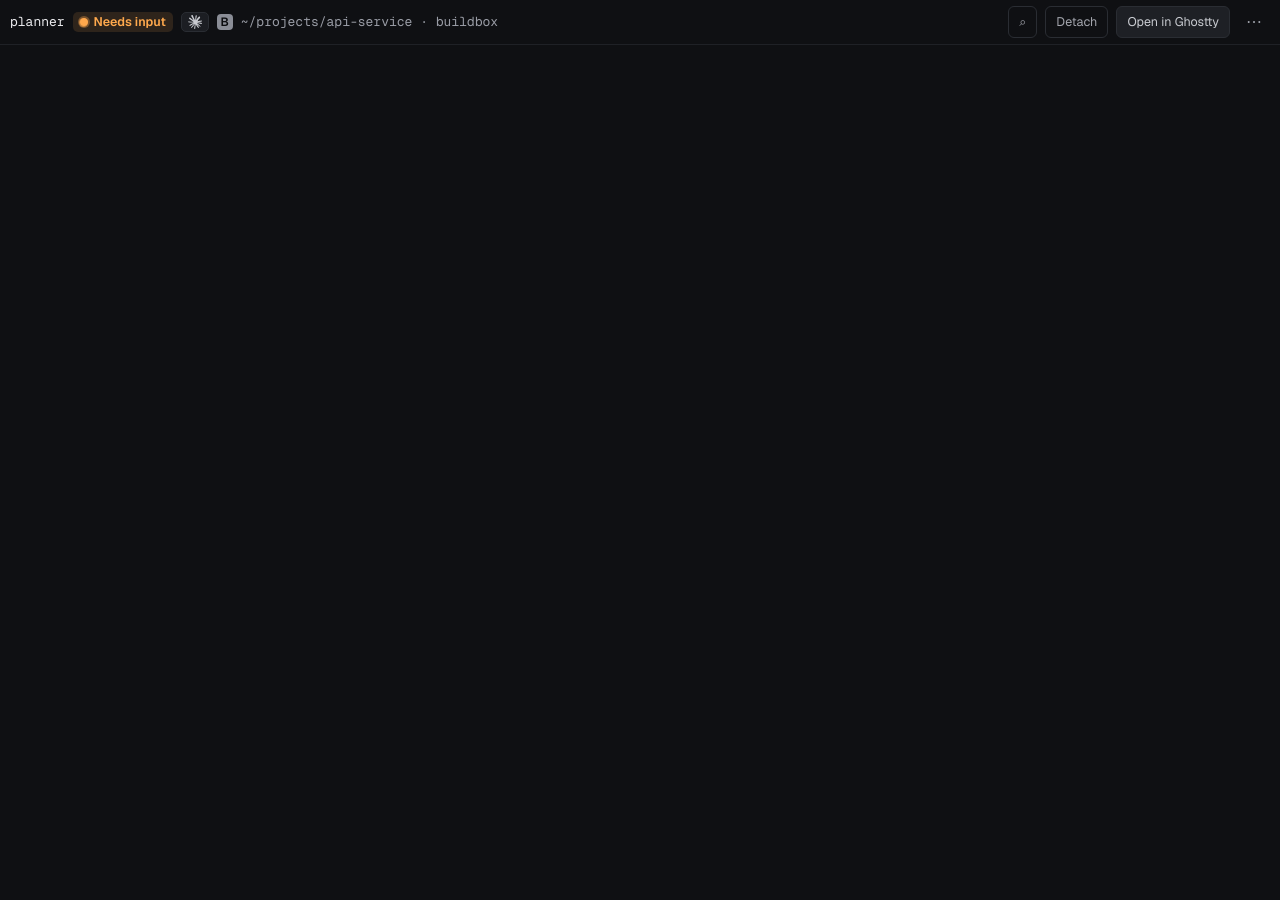
Scenario: ContextBar › the_close_pane_dialog_is_outside_the_terminal_panel
The image size is (1280, 900).
Click the button named "More actions" at (1254, 22), box [1238, 6, 1270, 38]
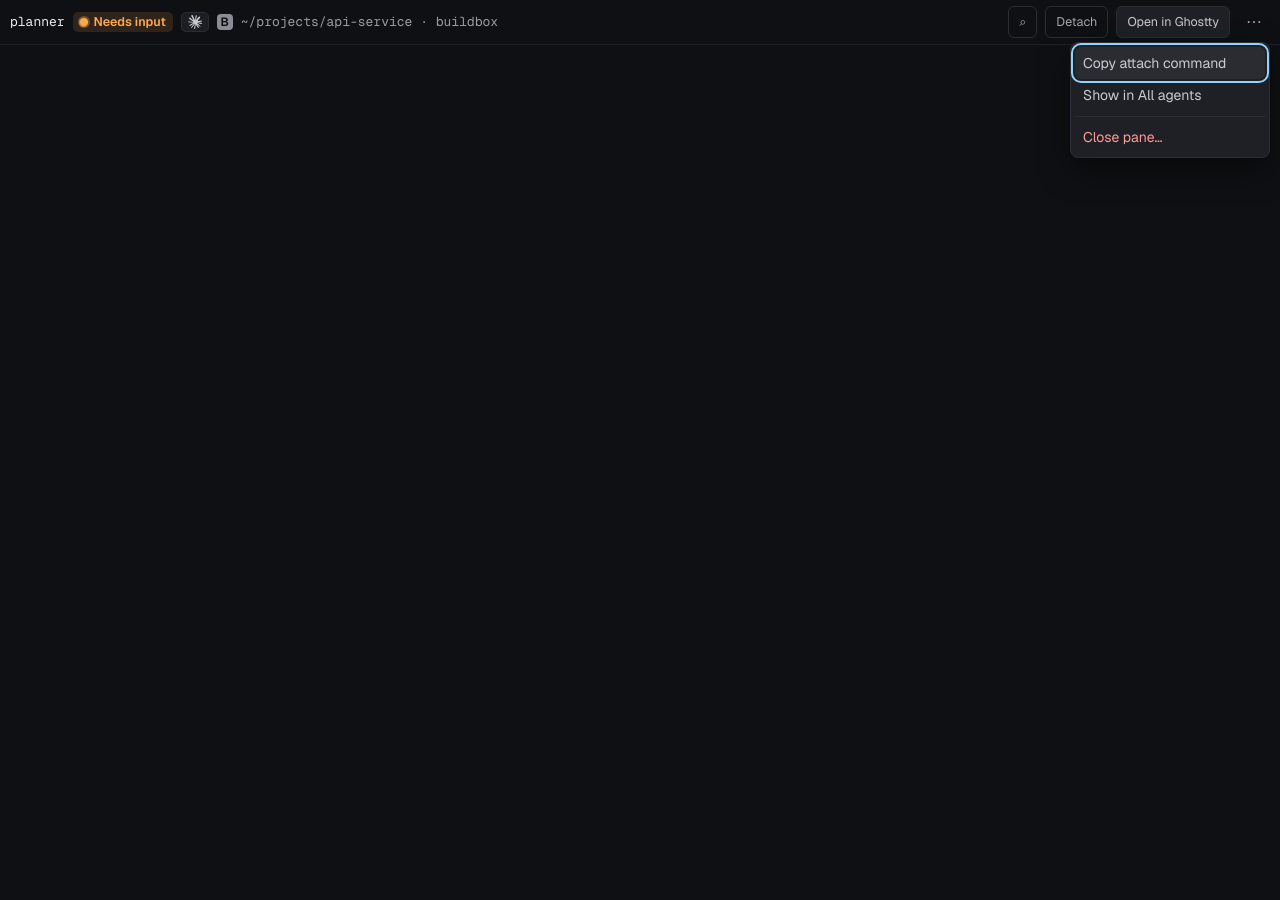
Click the menu item "Close pane…" at (1170, 137), box [1075, 121, 1265, 153]
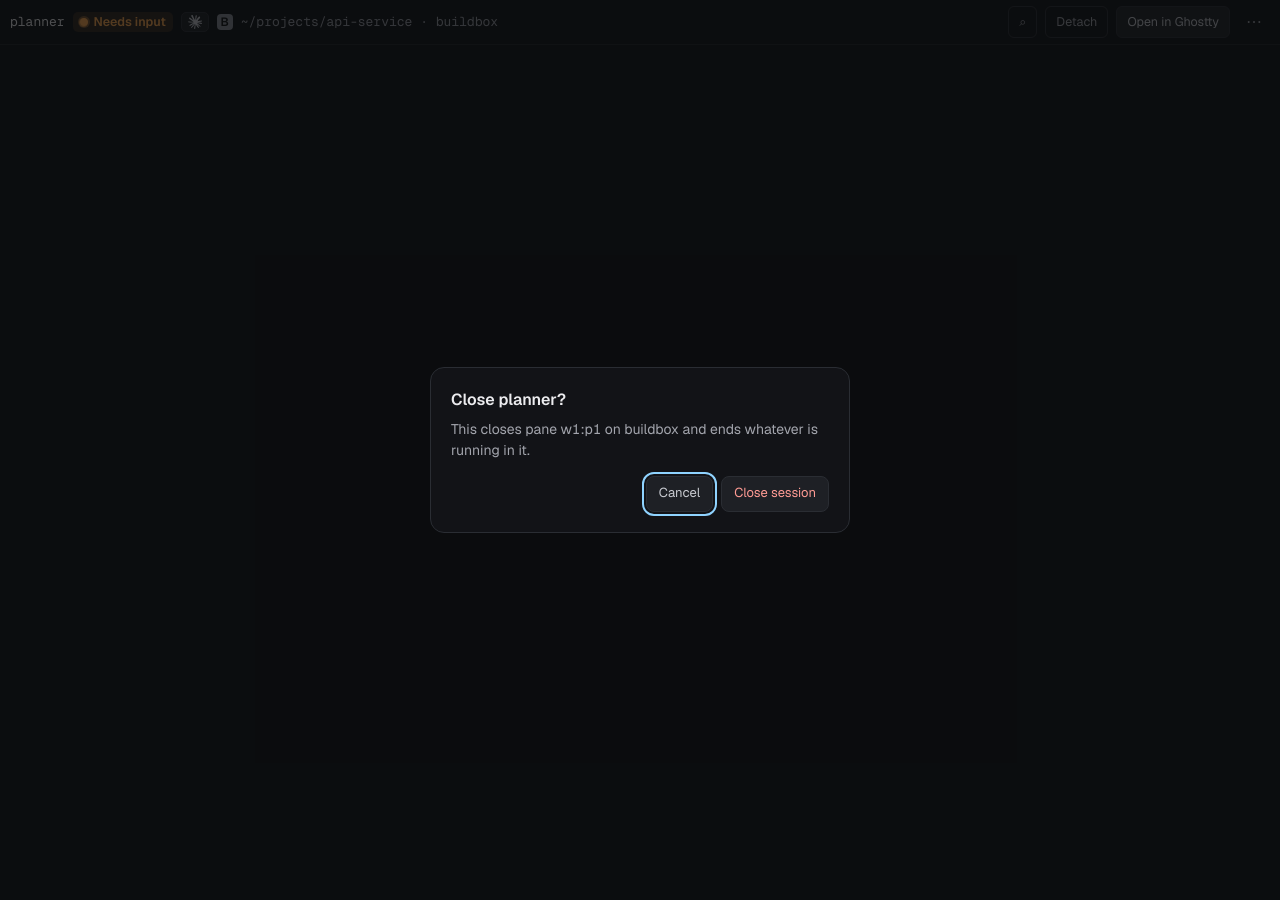
Click the button "Cancel" at (680, 494), box [646, 476, 713, 512]
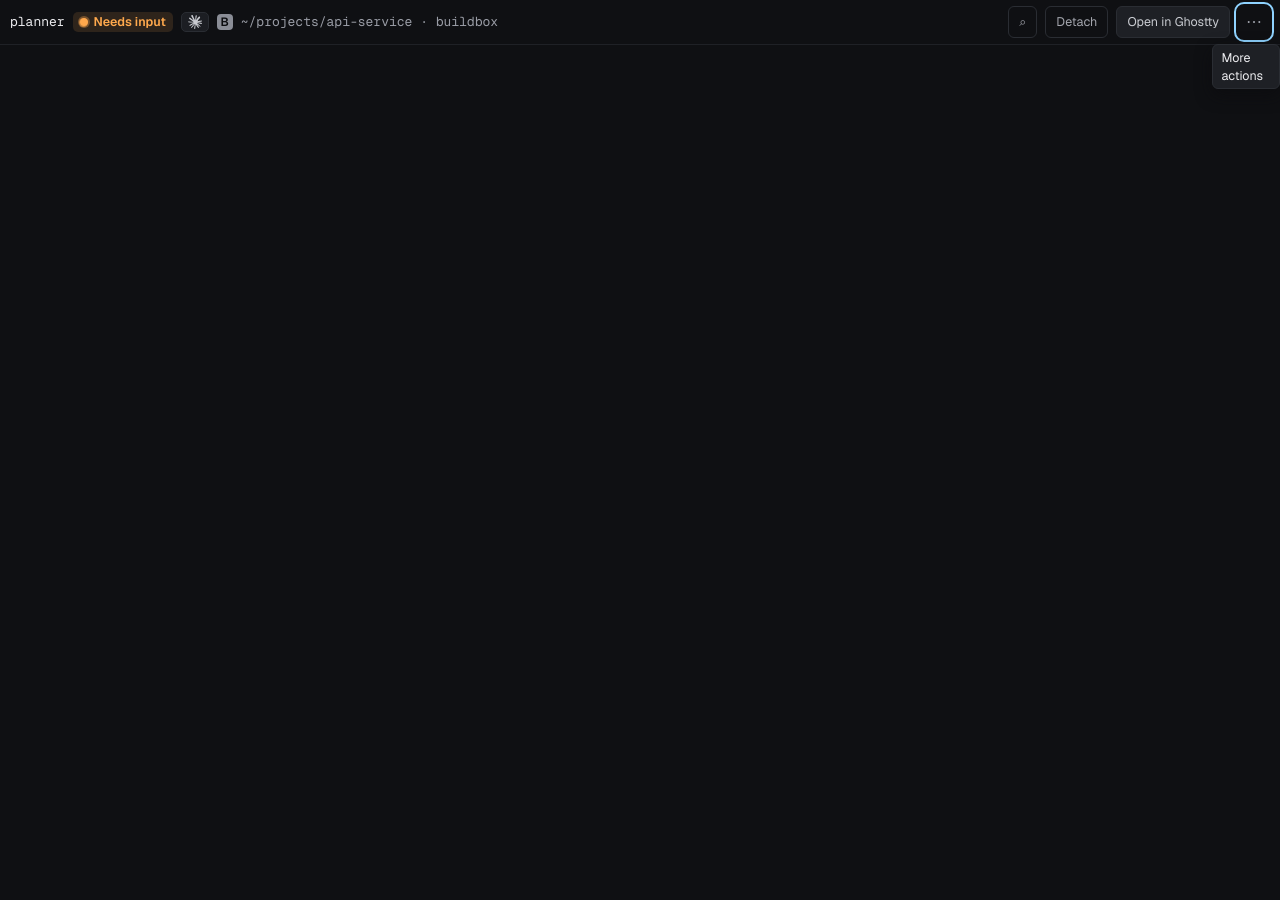
Check: the dialog is gone
